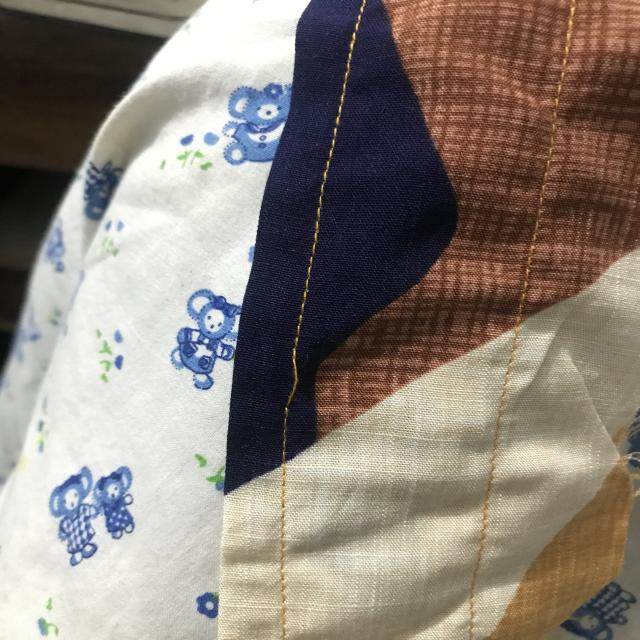good: (312, 178, 334, 244)
skip: (281, 319, 311, 427)
